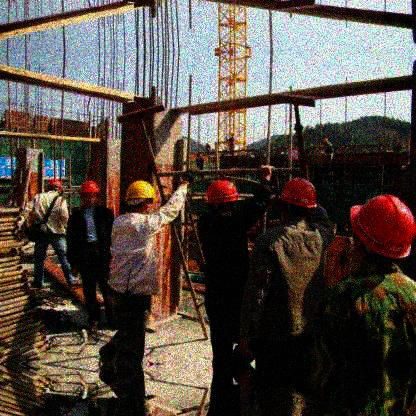helmet: (349, 195, 409, 272), (278, 177, 319, 226), (205, 179, 240, 213), (125, 180, 158, 214), (79, 180, 98, 209), (48, 179, 63, 193)
